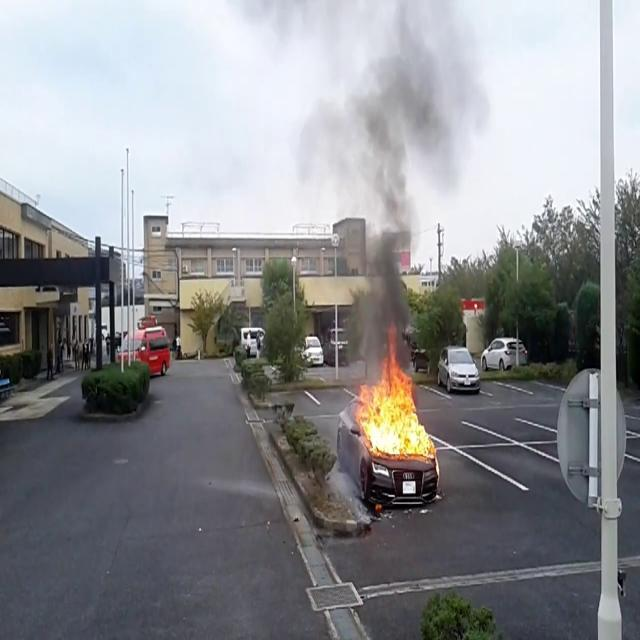Fire: (352, 357, 436, 463)
Smoke: (346, 11, 424, 376)
